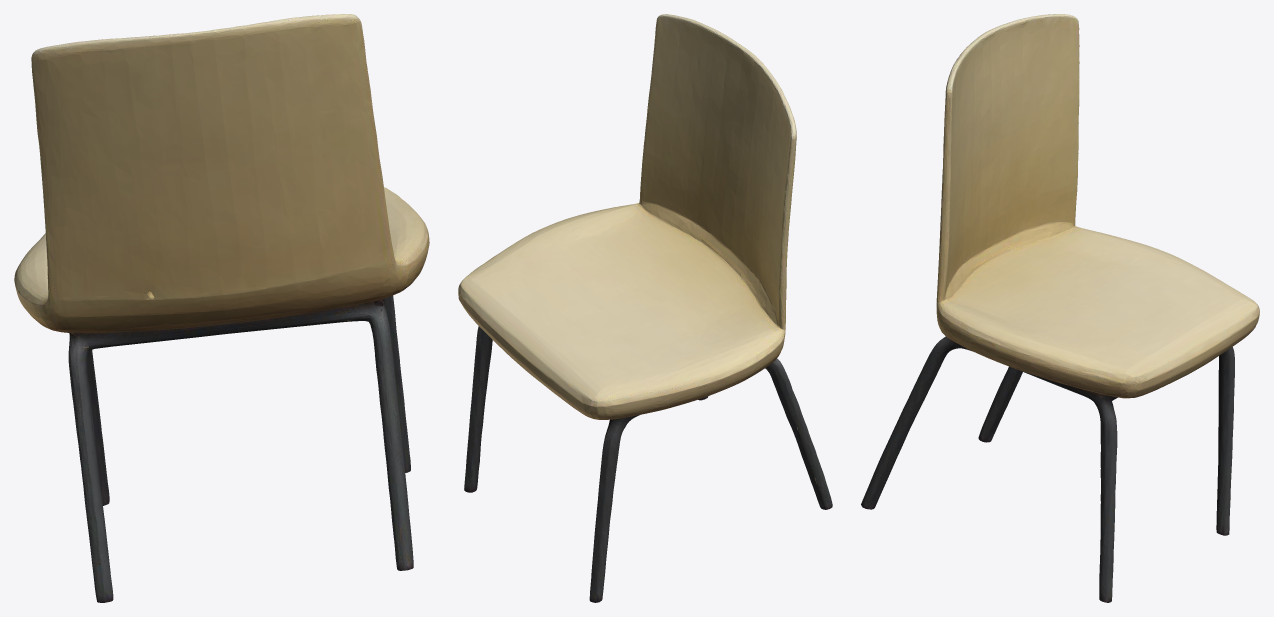
File: light-colored_wooden_chair_partially_visible_behind_foreground_table_(center-right)_000.glb
The picture shows the model from 3 angles, left to right: view 1: azimuth 30°, elevation 25°; view 2: azimuth 150°, elevation 25°; view 3: azimuth 270°, elevation 25°; orthographic projection. The views are drawn at different scales.
Visible parts, largest first — view 1: light-colored_wooden_chair_partially_visible_behind_foregrou; view 2: light-colored_wooden_chair_partially_visible_behind_foregrou; view 3: light-colored_wooden_chair_partially_visible_behind_foregrou.
Boxes of the visible parts, x1,y1,x2,y2 form: light-colored_wooden_chair_partially_visible_behind_foregrou: (14,14,429,602); light-colored_wooden_chair_partially_visible_behind_foregrou: (458,14,832,602); light-colored_wooden_chair_partially_visible_behind_foregrou: (861,14,1259,602).
Size of the model in its own units: 0.3762 by 0.5421 by 0.4028.
1 material, 1 textured.
